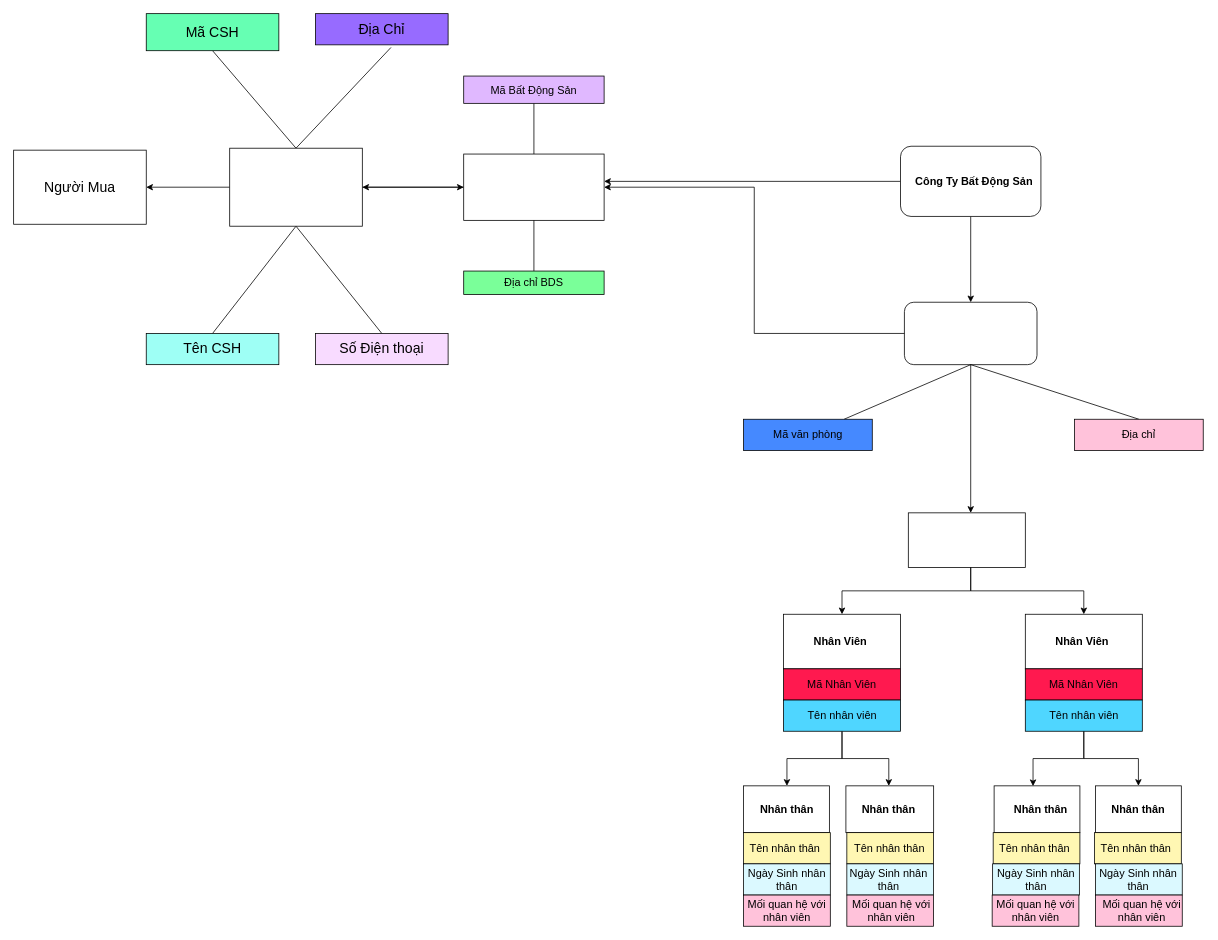
Image size: 1218x940. Some labels were removed from this diagram. The centre of each missing label's shape, as x and y in pixels:
"Chủ sở hữu" belongs at point (295, 186).
"Danh sách Bất Động Sản" belongs at point (533, 186).
"Phòng" belongs at point (970, 333).
"Trưởng Phòng" belongs at point (966, 539).
